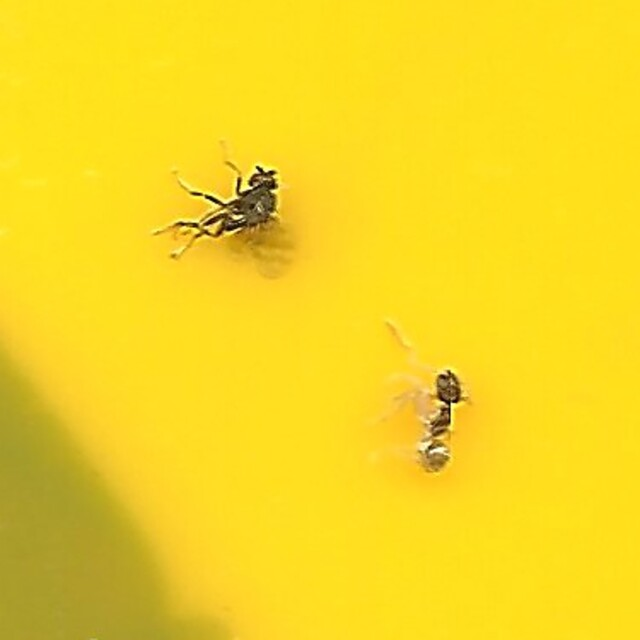Brachycera: (171, 158, 294, 270)
Hymenoptera: (406, 362, 469, 482)
